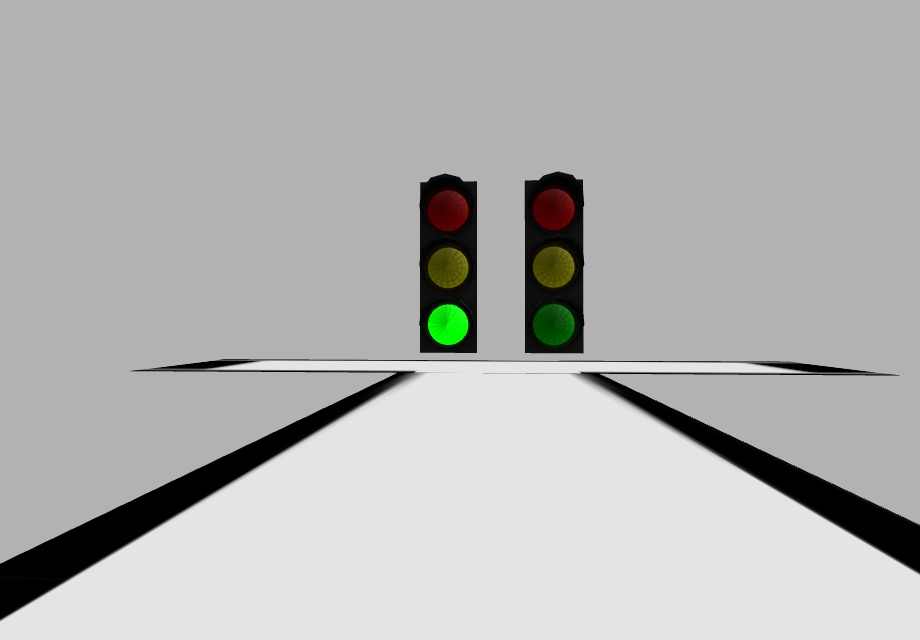green_off: (534, 302, 571, 343)
green_on: (429, 303, 468, 344)
